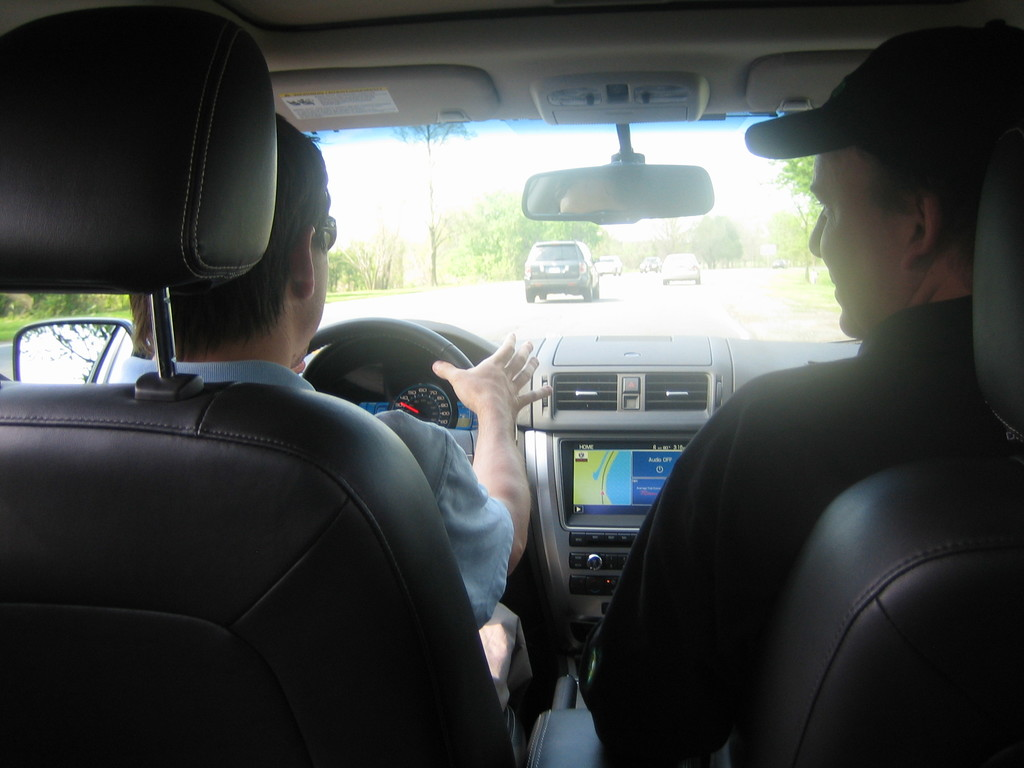Car: (0, 0, 1023, 768), (525, 241, 599, 303)
